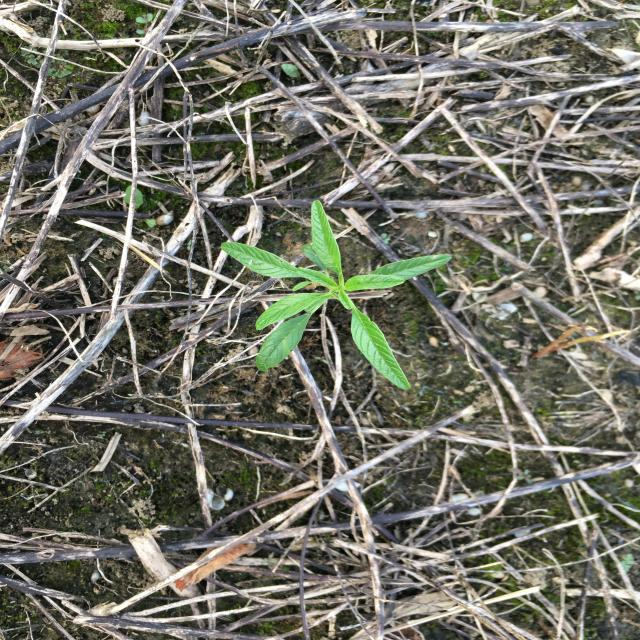Waterhemp: (217, 197, 454, 394)
